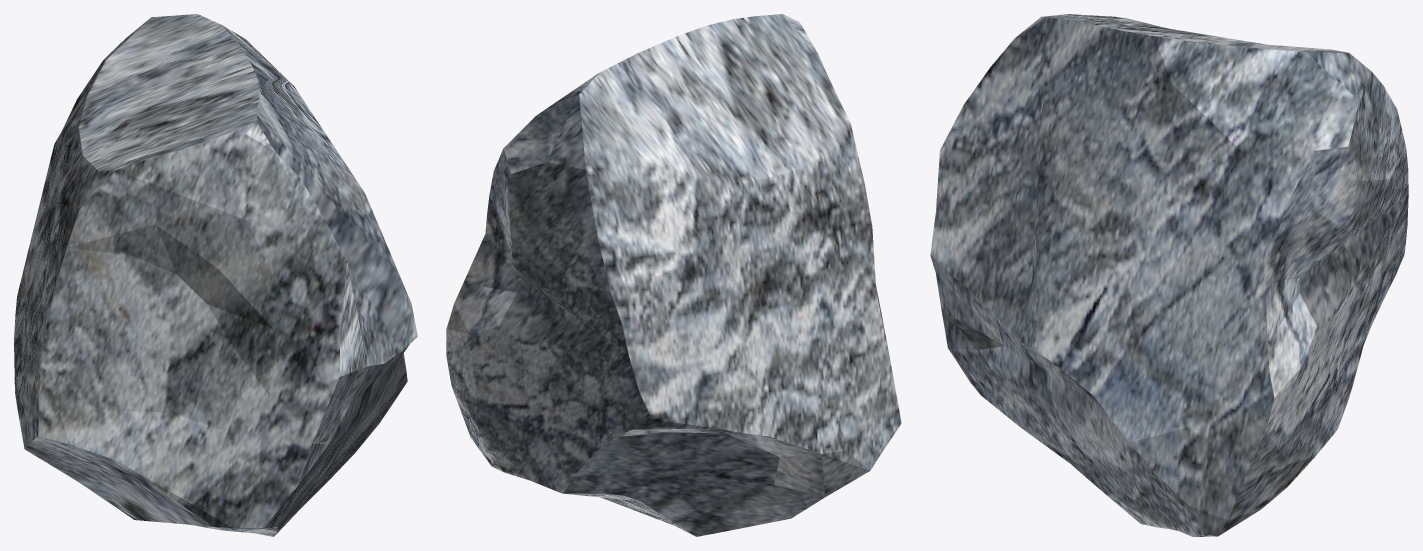
The model's file is rock.glb.
3 views of the same model, side by side, from view 1: azimuth 30°, elevation 25°; view 2: azimuth 150°, elevation 25°; view 3: azimuth 270°, elevation 25° (orthographic). The views are drawn at different scales.
Parts seen in each view (by area): view 1: Cube; view 2: Cube; view 3: Cube.
Part boxes in pixels (<box>): Cube: <box>14,14,417,536</box>; Cube: <box>446,14,901,536</box>; Cube: <box>930,14,1408,536</box>.
Bounding box in the file's own units: 2.25 × 2.64 × 2.38.
1 material, 1 textured.
